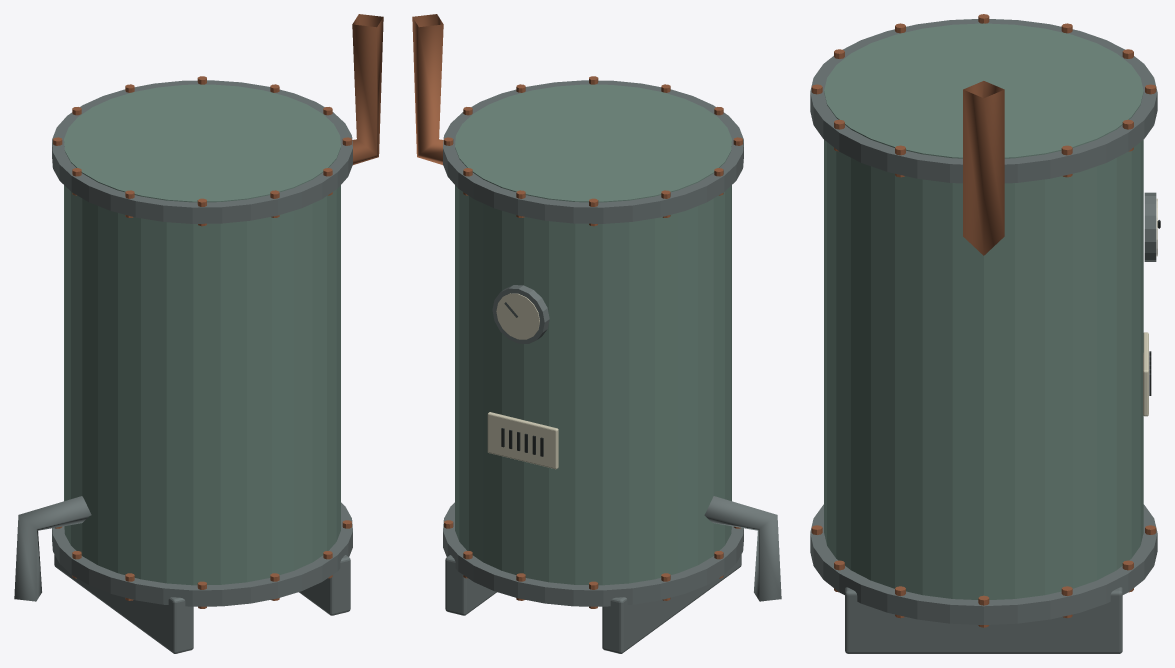
File: boiler.glb
3 views of the same model, side by side, from view 1: azimuth 30°, elevation 25°; view 2: azimuth 150°, elevation 25°; view 3: azimuth 270°, elevation 25° (orthographic). The views are drawn at different scales.
Visible parts, largest first — view 1: boiler; view 2: boiler; view 3: boiler.
Part boxes in pixels (<box>): boiler: <box>14,14,383,653</box>; boiler: <box>412,14,781,653</box>; boiler: <box>810,14,1160,653</box>.
Bounding box in the file's own units: 2.12 × 2.9 × 1.51.
